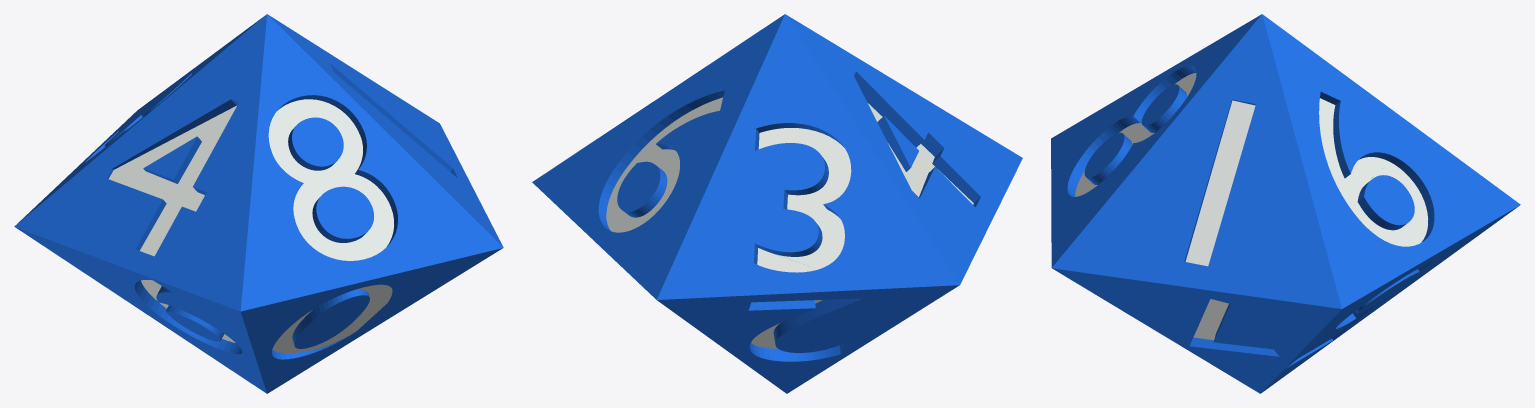
Rendered from blueDice.gltf.
3 renders of one model, left to right at view 1: azimuth 30°, elevation 25°; view 2: azimuth 150°, elevation 25°; view 3: azimuth 270°, elevation 25°, orthographic.
Parts seen in each view (by area): view 1: 円柱; view 2: 円柱; view 3: 円柱.
Boxes of the visible parts, <box> form: 円柱: <box>14,14,503,393</box>; 円柱: <box>532,14,1022,393</box>; 円柱: <box>1051,14,1520,393</box>.
Bounding box in the file's own units: 1.9 × 1.62 × 1.81.
